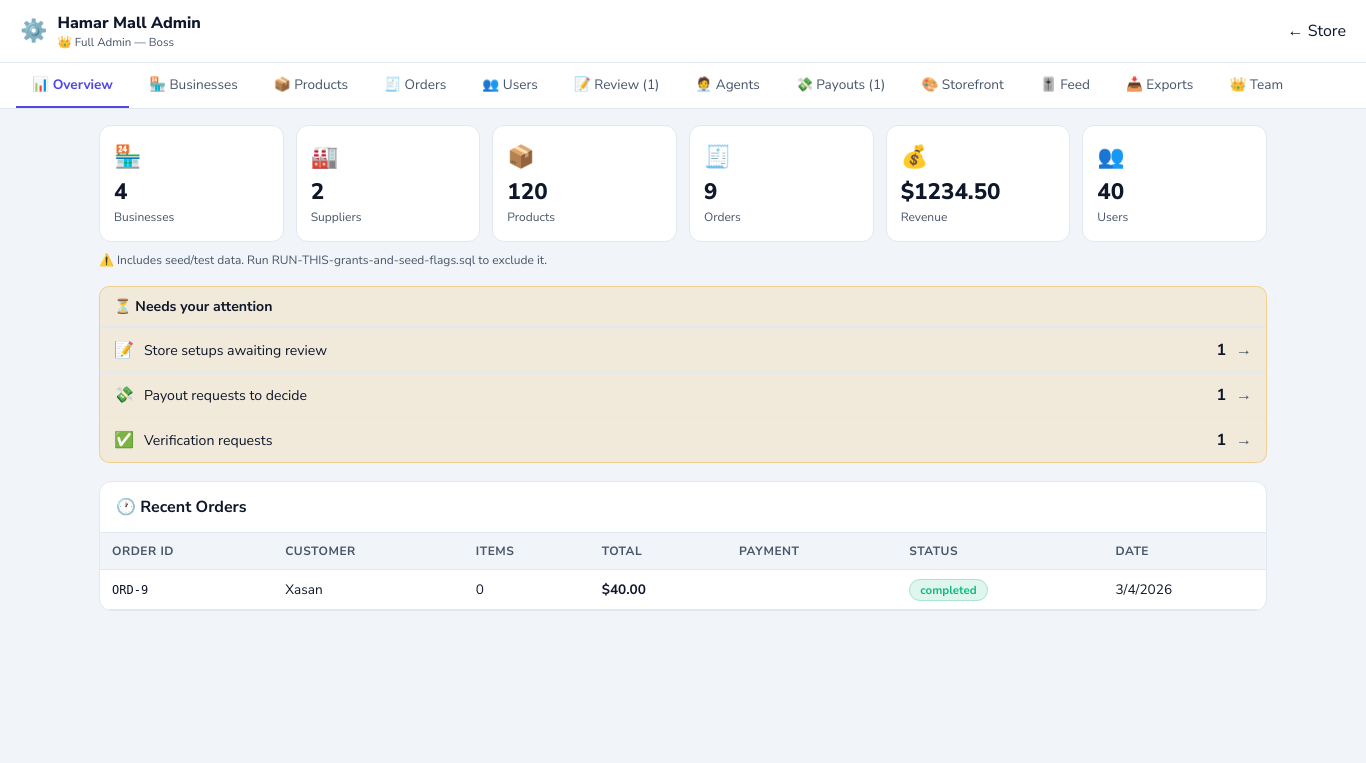
Test: storefront › loads the hero banner into an editable form
Click the button "🎨 Storefront".
click(963, 86)  # box [905,63,1020,108]
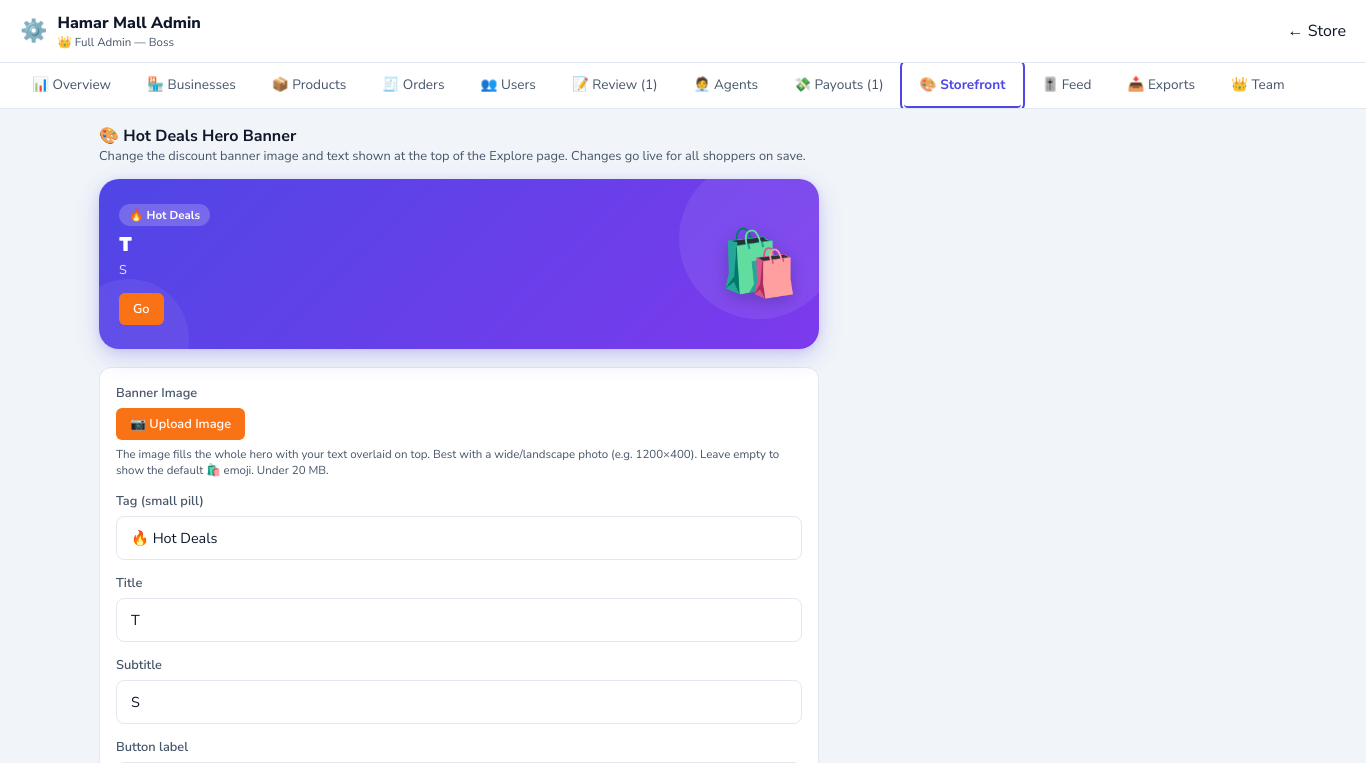
Now the text "🎨 Hot Deals Hero Banner" is shown, box [99,125,296,147]
Now the 2nd field showing "T" is shown, box [116,598,802,642]
